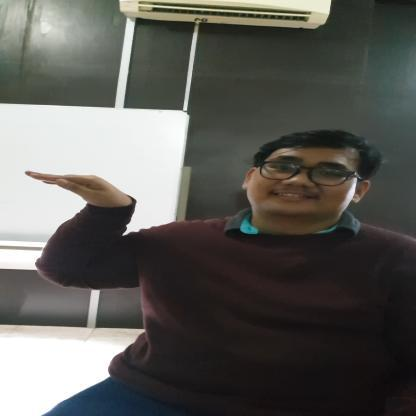Z: (20, 169, 140, 291)
